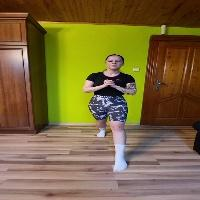lunges: (67, 45, 149, 172)
